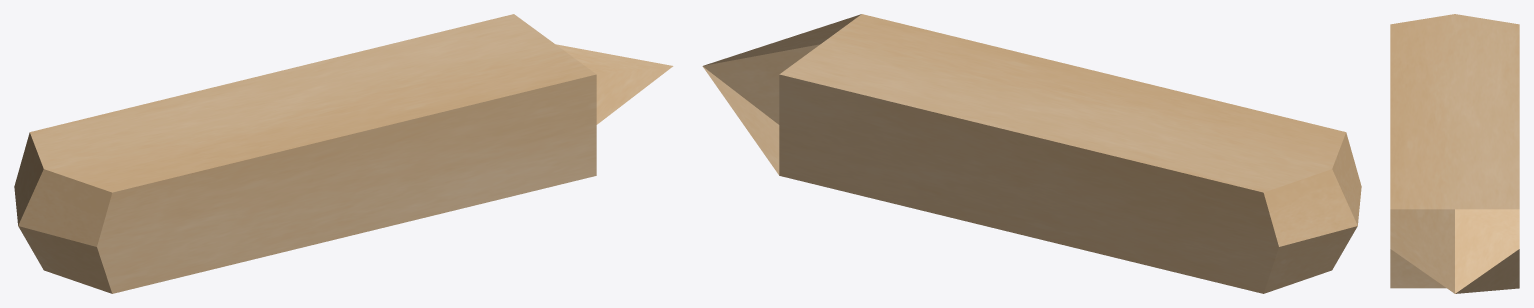
Rendered from sniperNBullet.obj.
3 views of the same model, side by side, from view 1: azimuth 30°, elevation 25°; view 2: azimuth 150°, elevation 25°; view 3: azimuth 270°, elevation 25° (orthographic). The views are drawn at different scales.
Parts seen in each view (by area): view 1: 立方体; view 2: 立方体; view 3: 立方体.
Part boxes in pixels (left/top/right/bottom): 立方体: left=14, top=14, right=673, bottom=293; 立方体: left=702, top=14, right=1361, bottom=293; 立方体: left=1390, top=14, right=1519, bottom=293.
Size of the model in its own units: 1.3 by 0.1913 by 0.2827.
Materials: 1 (1 with a texture image).
